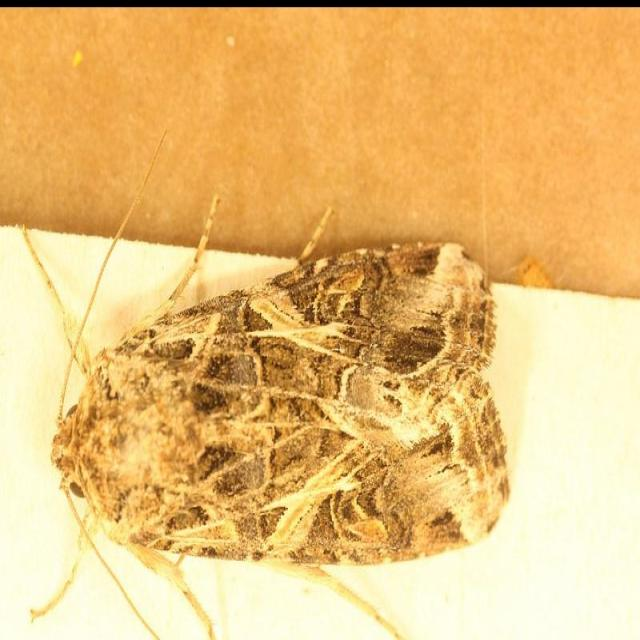army worm: (48, 235, 512, 582)
